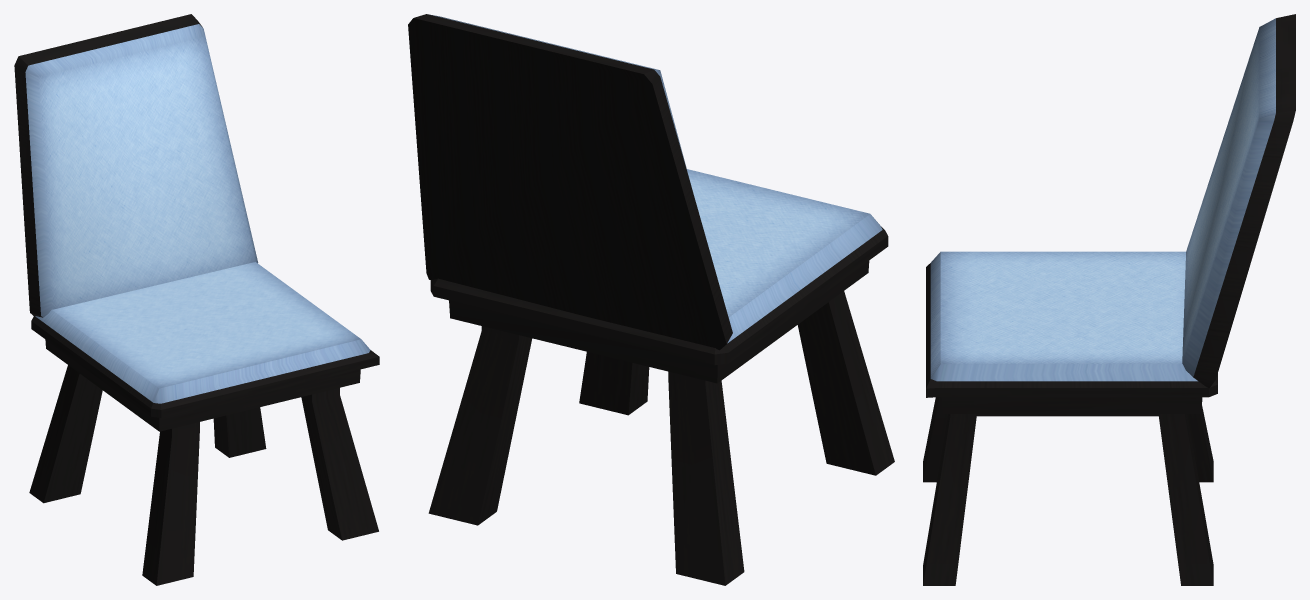
File: Dining_Room_Chair_C.FBX
The picture shows the model from 3 angles, left to right: view 1: azimuth 30°, elevation 25°; view 2: azimuth 150°, elevation 25°; view 3: azimuth 270°, elevation 25°; orthographic projection. The views are drawn at different scales.
Visible parts, largest first — view 1: Dining_Chair; view 2: Dining_Chair; view 3: Dining_Chair.
Boxes of the visible parts, x1,y1,x2,y2 form: Dining_Chair: (14, 14, 379, 585); Dining_Chair: (408, 14, 894, 585); Dining_Chair: (923, 14, 1295, 585).
Size of the model in its own units: 121 by 208 by 152.
